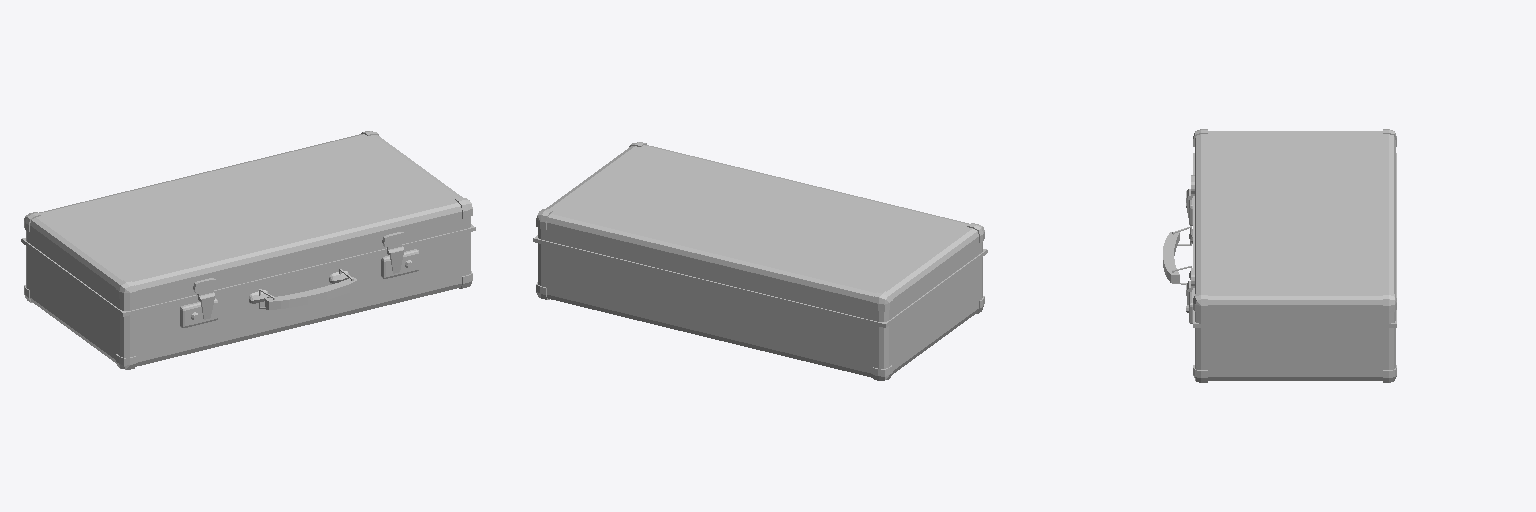
Rendered from suitcase2.obj.
3 renders of one model, left to right at view 1: azimuth 30°, elevation 25°; view 2: azimuth 150°, elevation 25°; view 3: azimuth 270°, elevation 25°, orthographic.
Visible parts, largest first — view 1: Box141_22_-_Default_0; view 2: Box141_22_-_Default_0; view 3: Box141_22_-_Default_0.
Boxes of the visible parts, <box> form: Box141_22_-_Default_0: <box>21,131,475,369</box>; Box141_22_-_Default_0: <box>533,142,987,380</box>; Box141_22_-_Default_0: <box>1163,129,1396,382</box>.
Bounding box in the file's own units: 0.8747 × 0.2066 × 0.5039.